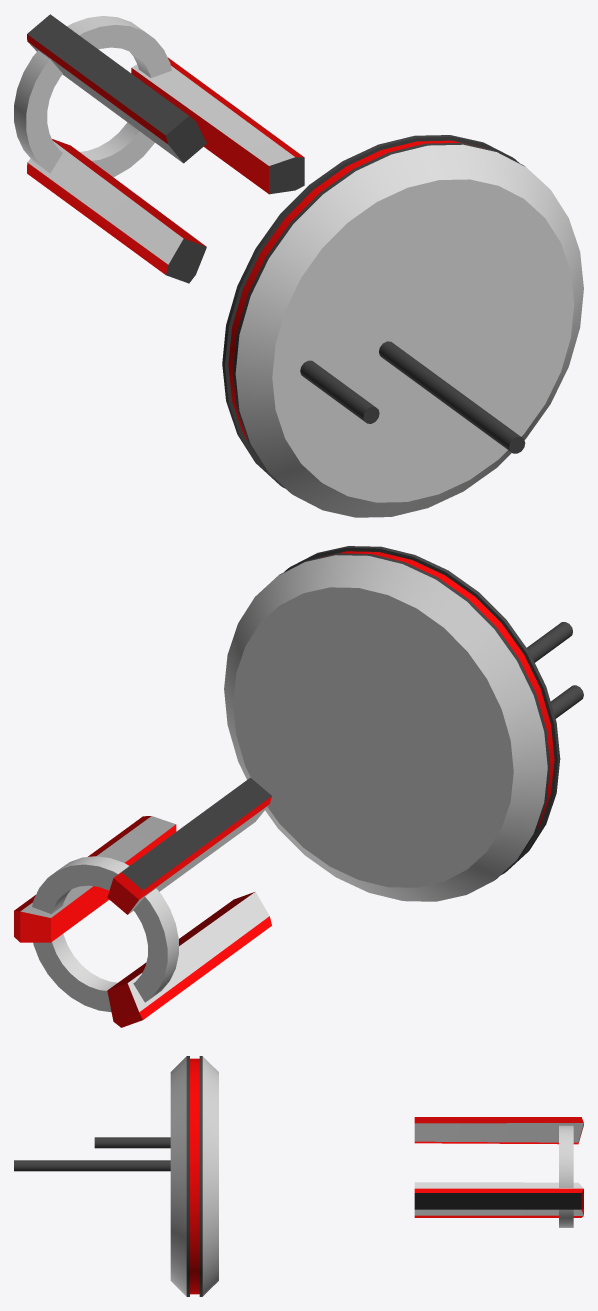
The model's file is skyHub.obj.
3 renders of one model, top to bottom at view 1: azimuth 30°, elevation 25°; view 2: azimuth 150°, elevation 25°; view 3: azimuth 270°, elevation 25°, orthographic. The views are drawn at different scales.
Parts seen in each view (by area): view 1: ChamferCyl001, Prism005, Tube003, Prism004, Prism006, Cylinder004, Cylinder003; view 2: ChamferCyl001, Tube003, Prism004, Prism005, Prism006, Cylinder004; view 3: ChamferCyl001, Prism006, Prism004, Cylinder004, Prism005, Tube003, Cylinder003.
Part boxes in pixels (left/top/right/bottom): ChamferCyl001: left=222, top=135, right=583, bottom=517; Prism005: left=27, top=139, right=206, bottom=283; Tube003: left=14, top=16, right=171, bottom=176; Prism004: left=27, top=14, right=206, bottom=163; Prism006: left=131, top=57, right=304, bottom=194; Cylinder004: left=379, top=341, right=525, bottom=453; Cylinder003: left=300, top=360, right=379, bottom=423; ChamferCyl001: left=224, top=546, right=560, bottom=901; Tube003: left=32, top=856, right=178, bottom=1012; Prism004: left=107, top=777, right=271, bottom=914; Prism005: left=107, top=891, right=271, bottom=1027; Prism006: left=14, top=816, right=176, bottom=942; Cylinder004: left=527, top=622, right=572, bottom=662; ChamferCyl001: left=170, top=1056, right=218, bottom=1296; Prism006: left=414, top=1182, right=583, bottom=1209; Prism004: left=414, top=1117, right=583, bottom=1144; Cylinder004: left=14, top=1160, right=170, bottom=1171; Prism005: left=414, top=1209, right=583, bottom=1217; Tube003: left=559, top=1125, right=573, bottom=1227; Cylinder003: left=94, top=1137, right=170, bottom=1148.
Bounding box in the file's own units: 1.5 × 1.49 × 3.54.
